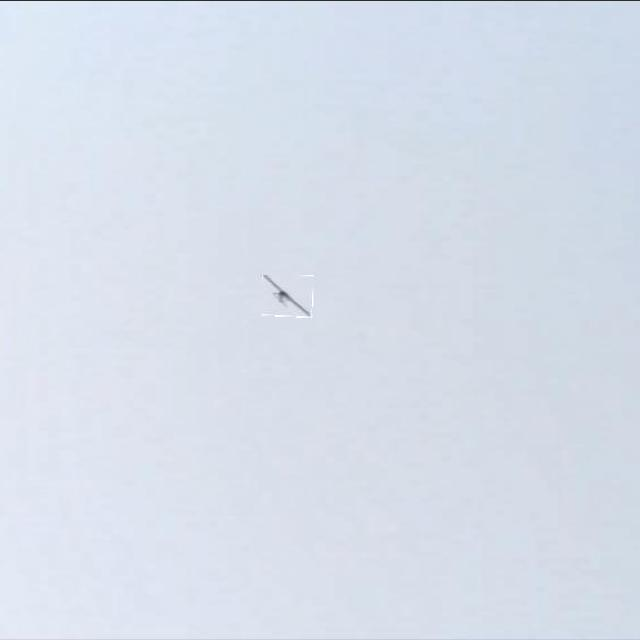plane: (258, 273, 316, 320)
